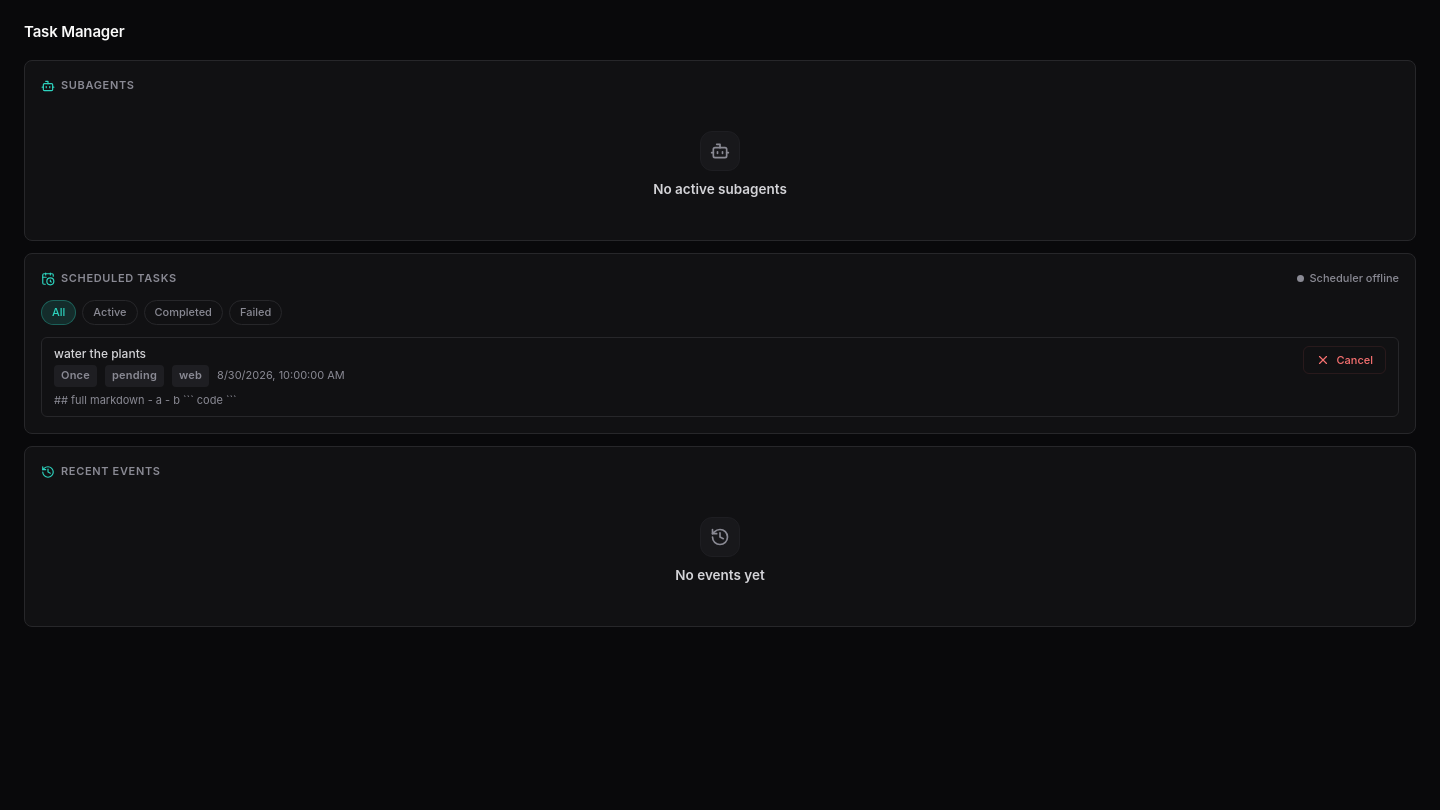
TaskManager › opens the task detail modal when a row is clicked (and renders the full content)
The width and height of the screenshot is (1440, 810).
Click the button with test id "task-item": [100, 354] box [41,337,1399,417]
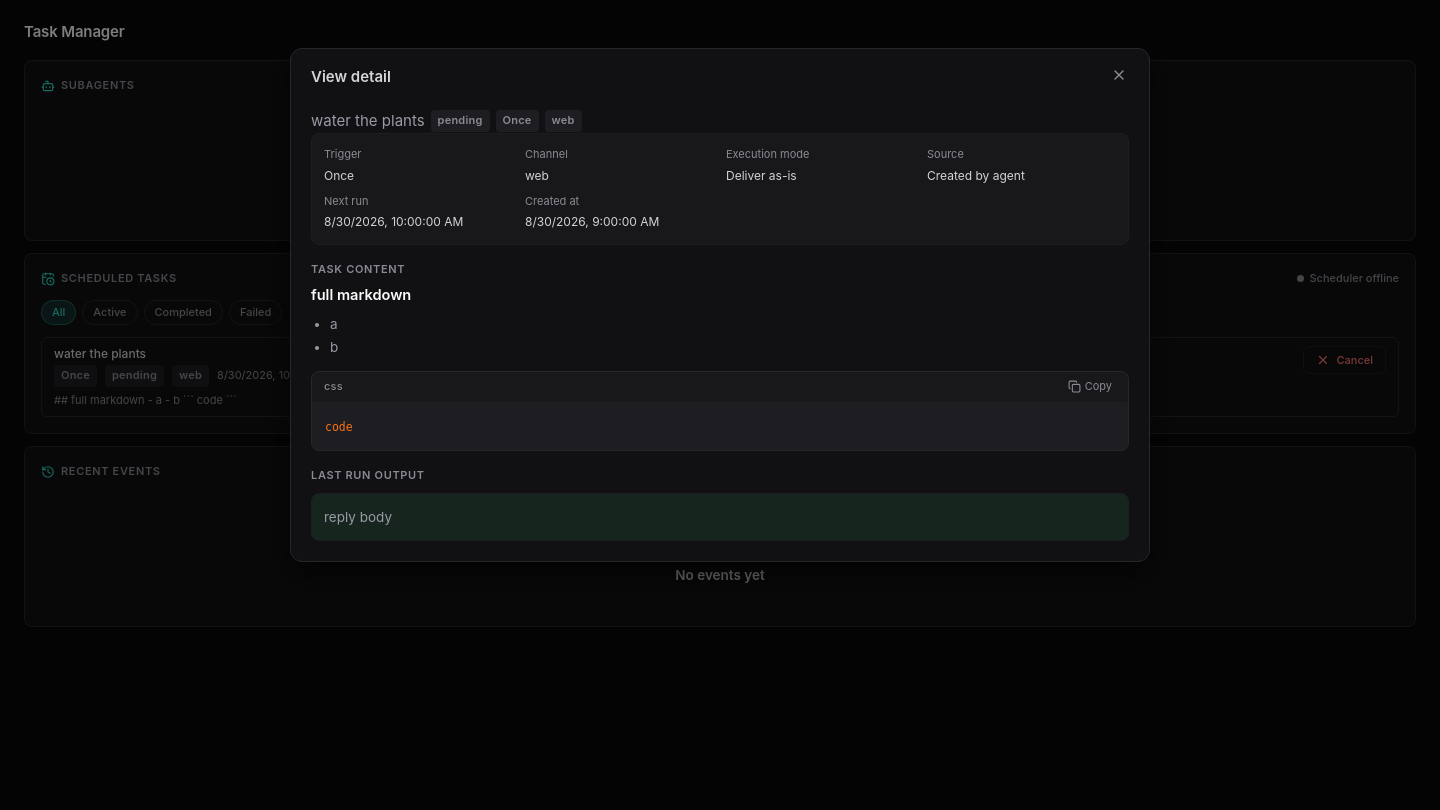
Expected: the element with test id "detail-body" shows "full markdown", [311,286,411,304]
Expected: the element with test id "detail-body" shows "reply body", [324,509,392,525]
